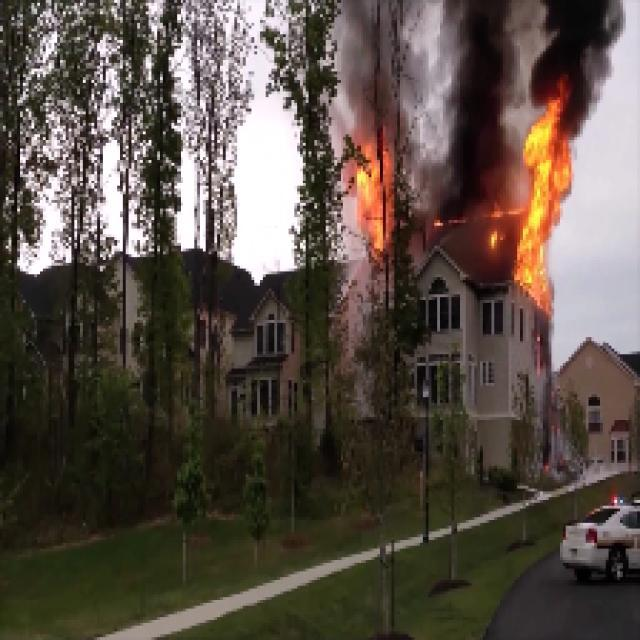Fire: (524, 103, 572, 298), (355, 139, 408, 251)
Smoke: (454, 0, 511, 194), (544, 1, 608, 96)
